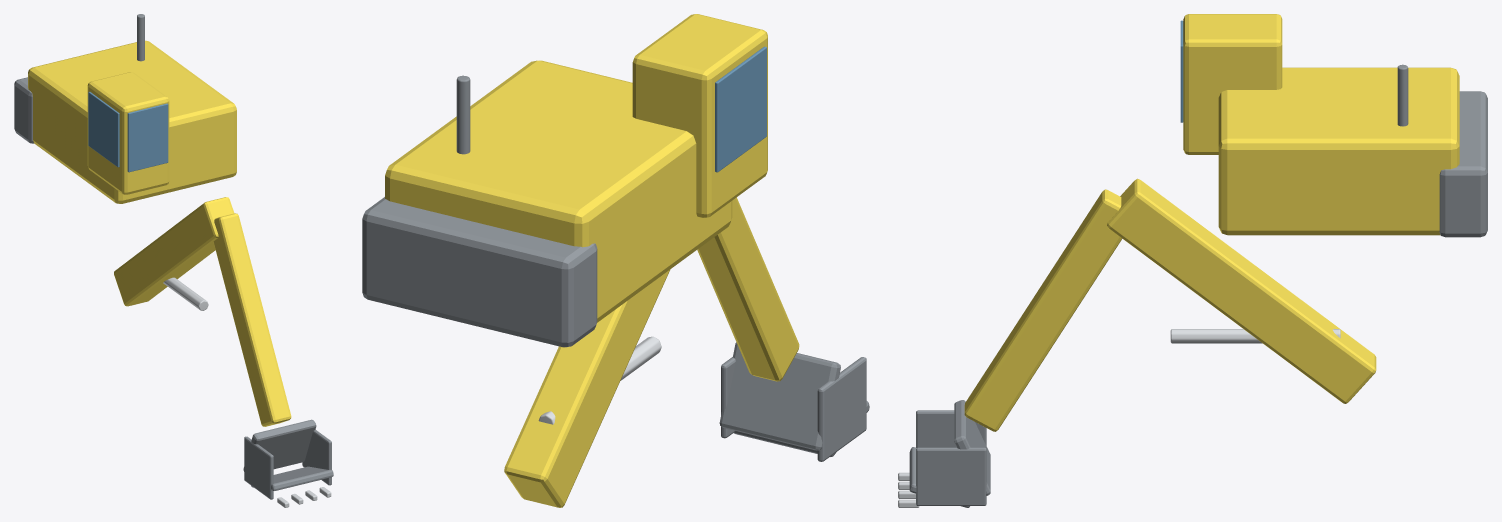
File: excavator_top.fbx
3 views of the same model, side by side, from view 1: azimuth 30°, elevation 25°; view 2: azimuth 150°, elevation 25°; view 3: azimuth 270°, elevation 25° (orthographic). The views are drawn at different scales.
Visible parts, largest first — view 1: Visual, Spin_X; view 2: Visual, Spin_X; view 3: Visual, Spin_X.
Boxes of the visible parts, x1,y1,x2,y2 form: Visual: (14,14,236,203); Spin_X: (114,197,333,507); Visual: (362,14,767,347); Spin_X: (504,197,869,507); Visual: (1180,14,1487,237); Spin_X: (898,178,1376,507).
Size of what is drawn, in the model's own units: 284 by 691 by 833.
